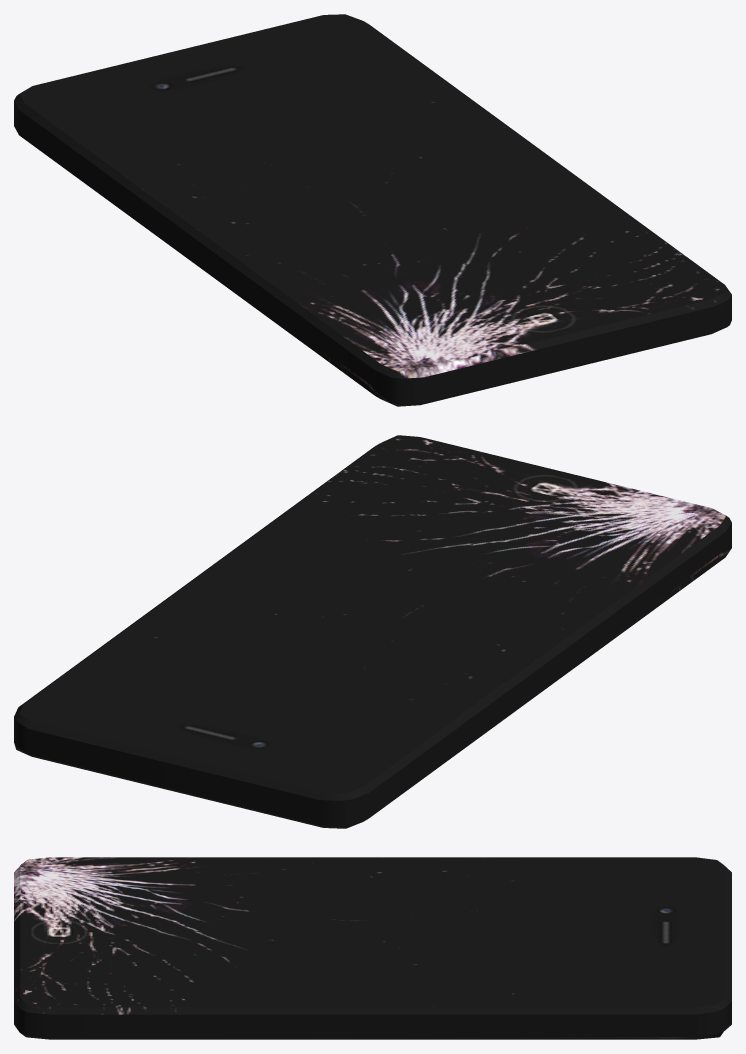
Rendered from phoneBroken.fbx.
The picture shows the model from 3 angles, top to bottom: view 1: azimuth 30°, elevation 25°; view 2: azimuth 150°, elevation 25°; view 3: azimuth 270°, elevation 25°; orthographic projection. The views are drawn at different scales.
Parts seen in each view (by area): view 1: phoneBroken; view 2: phoneBroken; view 3: phoneBroken.
Part boxes in pixels (x1,y1,x2,y2): phoneBroken: (14, 14, 731, 406); phoneBroken: (14, 435, 731, 828); phoneBroken: (14, 857, 731, 1039).
Size of the model in its own units: 0.0944 by 0.00907 by 0.1844.
1 material, 1 textured.
